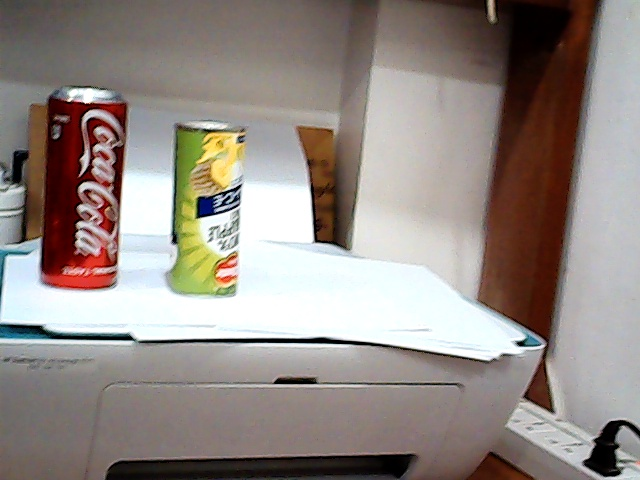Cola: (36, 80, 136, 310)
Pine Juice: (160, 109, 254, 307)
